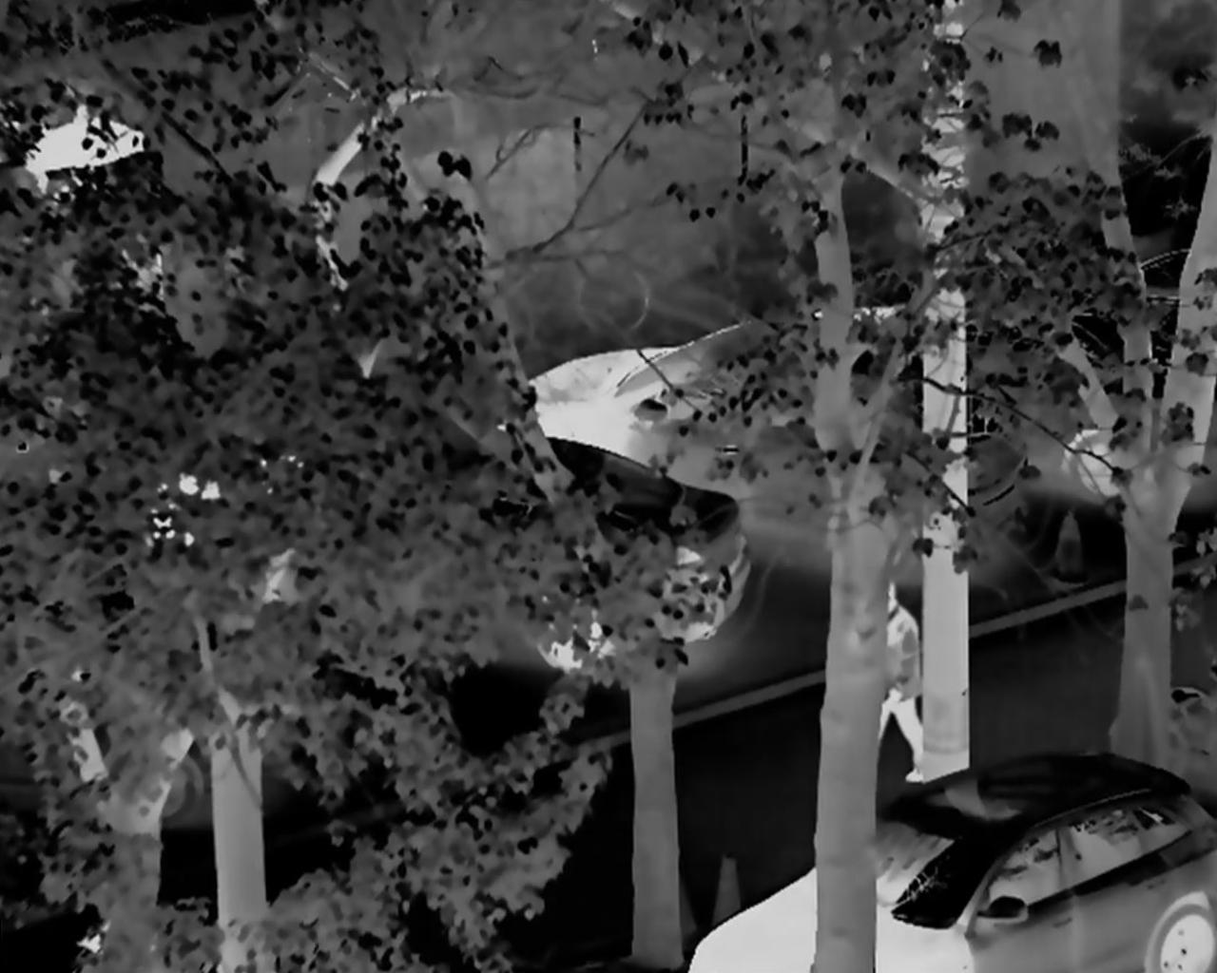person: (855, 566, 939, 792)
